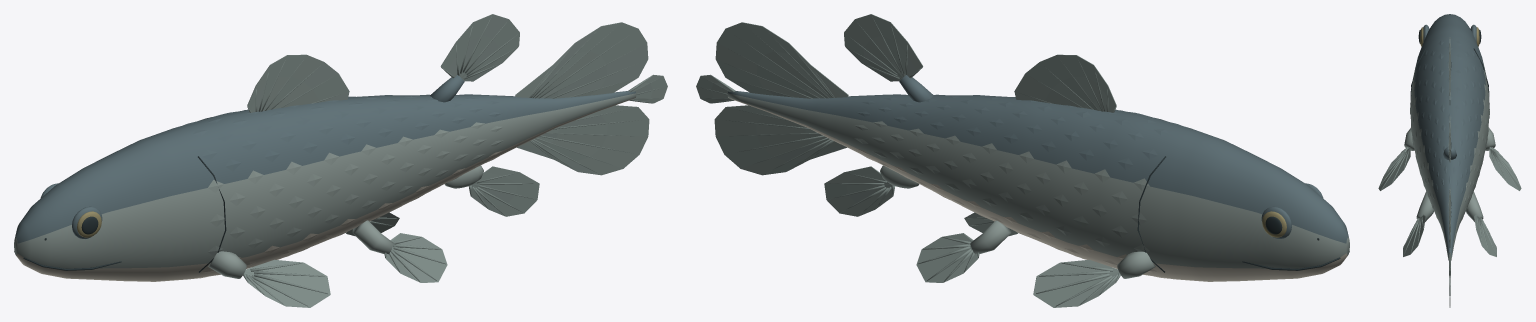
3 renders of one model, left to right at view 1: azimuth 30°, elevation 25°; view 2: azimuth 150°, elevation 25°; view 3: azimuth 270°, elevation 25°, orthographic. The views are drawn at different scales.
Visible parts, largest first — view 1: Coelacanthus_editable_semantic_mesh; view 2: Coelacanthus_editable_semantic_mesh; view 3: Coelacanthus_editable_semantic_mesh.
Part boxes in pixels (x1=…): Coelacanthus_editable_semantic_mesh: x1=14, y1=14, x2=667, y2=307; Coelacanthus_editable_semantic_mesh: x1=696, y1=14, x2=1349, y2=307; Coelacanthus_editable_semantic_mesh: x1=1378, y1=14, x2=1521, y2=307.
Bounding box in the file's own units: 0.6 × 0.2052 × 0.1525.
